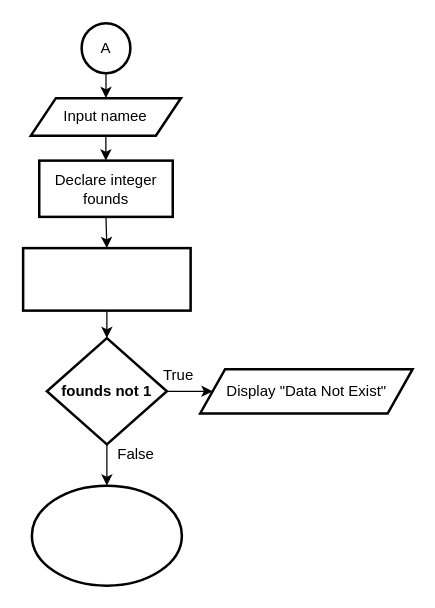
Some shapes in this 435 by 608 pixel diagram are drawn without their labels. The centre of each missing label's shape, as x and y in pixels:
"END" goes at [106,535].
"Set founds = searchFriends(namee)" goes at [106,278].
